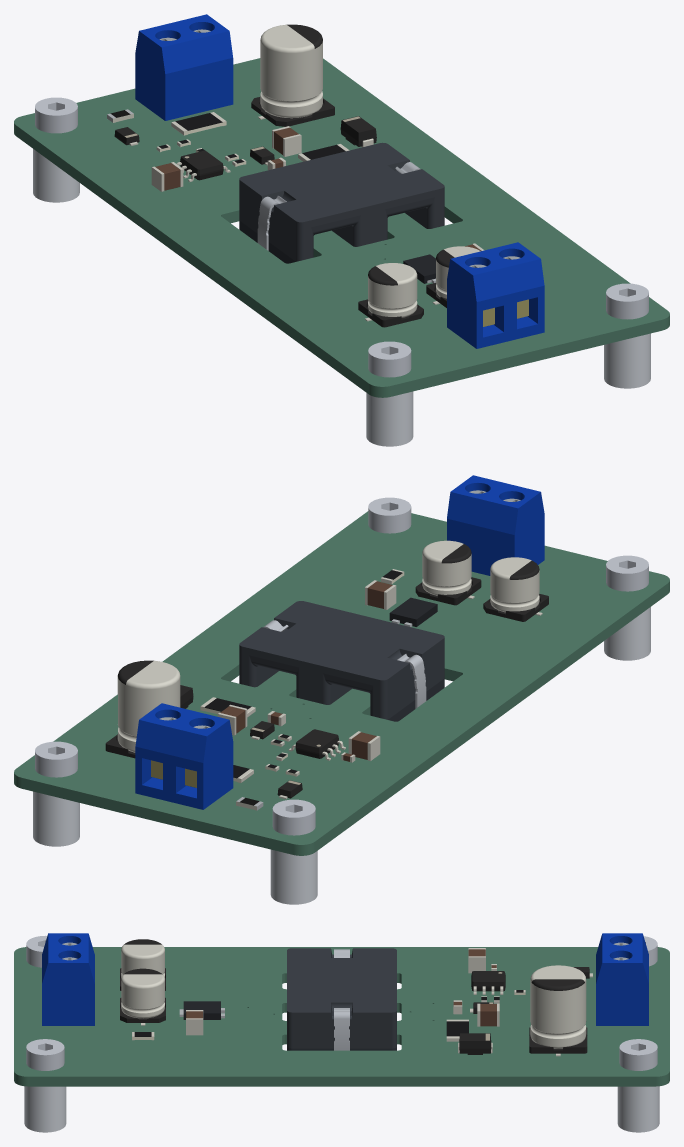
Rendered from PS-FLYBACK-5W.glb.
3 views of the same model, one above another, from view 1: azimuth 30°, elevation 25°; view 2: azimuth 150°, elevation 25°; view 3: azimuth 270°, elevation 25° (orthographic). The views are drawn at different scales.
Visible parts, largest first — view 1: =>[0:1:1:50], housing (×2), core_upper_factory_0p05_gap, =>[0:1:1:28], 8mm_nonconductive_standoff (×3), illustrative_M3_screw (×3), =>[0:1:1:5] (×2), =>[0:1:1:7] (×2), =>[0:1:1:30], =>[0:1:1:38], =>[0:1:1:15], clip_left_estimated_opened_pose; view 2: =>[0:1:1:50], housing (×2), core_upper_factory_0p05_gap, =>[0:1:1:5] (×2), 8mm_nonconductive_standoff (×3), illustrative_M3_screw (×4), =>[0:1:1:28], =>[0:1:1:7] (×2), =>[0:1:1:30], molded_body, clip_left_estimated_opened_pose; view 3: =>[0:1:1:50], core_upper_factory_0p05_gap, housing (×2), =>[0:1:1:28], 8mm_nonconductive_standoff (×2), =>[0:1:1:5] (×2), illustrative_M3_screw (×3), =>[0:1:1:7] (×3), =>[0:1:1:30], =>[0:1:1:38], clip_right_estimated_opened_pose, molded_body (+1 smaller).
Boxes of the visible parts, <box> form: =>[0:1:1:50]: <box>14,58,669,397</box>; housing (×2): <box>135,14,544,348</box>; core_upper_factory_0p05_gap: <box>239,142,444,261</box>; =>[0:1:1:28]: <box>251,24,334,126</box>; 8mm_nonconductive_standoff (×3): <box>33,149,650,446</box>; illustrative_M3_screw (×3): <box>35,97,648,377</box>; =>[0:1:1:5] (×2): <box>358,246,480,327</box>; =>[0:1:1:7] (×2): <box>151,126,301,191</box>; =>[0:1:1:30]: <box>176,150,230,181</box>; =>[0:1:1:38]: <box>340,116,376,147</box>; =>[0:1:1:15]: <box>171,112,226,135</box>; clip_left_estimated_opened_pose: <box>257,196,286,250</box>; =>[0:1:1:50]: <box>14,511,669,855</box>; housing (×2): <box>135,475,544,809</box>; core_upper_factory_0p05_gap: <box>239,601,444,719</box>; =>[0:1:1:5] (×2): <box>415,540,548,621</box>; 8mm_nonconductive_standoff (×3): <box>33,607,650,904</box>; illustrative_M3_screw (×4): <box>35,497,648,835</box>; =>[0:1:1:28]: <box>105,660,180,758</box>; =>[0:1:1:7] (×2): <box>348,580,396,760</box>; =>[0:1:1:30]: <box>288,729,345,760</box>; molded_body: <box>389,597,437,626</box>; clip_left_estimated_opened_pose: <box>397,654,426,708</box>; =>[0:1:1:50]: <box>14,947,669,1086</box>; core_upper_factory_0p05_gap: <box>287,948,396,1048</box>; housing (×2): <box>42,933,648,1025</box>; =>[0:1:1:28]: <box>529,965,587,1056</box>; 8mm_nonconductive_standoff (×2): <box>24,1086,659,1132</box>; =>[0:1:1:5] (×2): <box>120,939,165,1025</box>; illustrative_M3_screw (×3): <box>26,935,657,1070</box>; =>[0:1:1:7] (×3): <box>186,948,499,1035</box>; =>[0:1:1:30]: <box>471,971,505,994</box>; =>[0:1:1:38]: <box>458,1033,492,1054</box>; clip_right_estimated_opened_pose: <box>334,1008,349,1050</box>; molded_body: <box>183,1001,220,1019</box>.
Bounding box in the file's own units: 0.044 × 0.0201 × 0.094.
